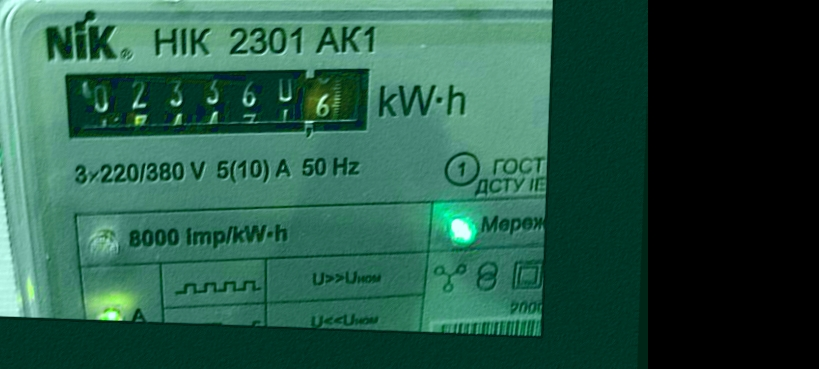0: (91, 80, 114, 114), (275, 72, 298, 104)
2: (130, 76, 151, 110)
3: (204, 72, 225, 105), (166, 76, 186, 108)
6: (239, 75, 262, 109), (314, 87, 336, 120)
screen: (48, 47, 389, 154)
